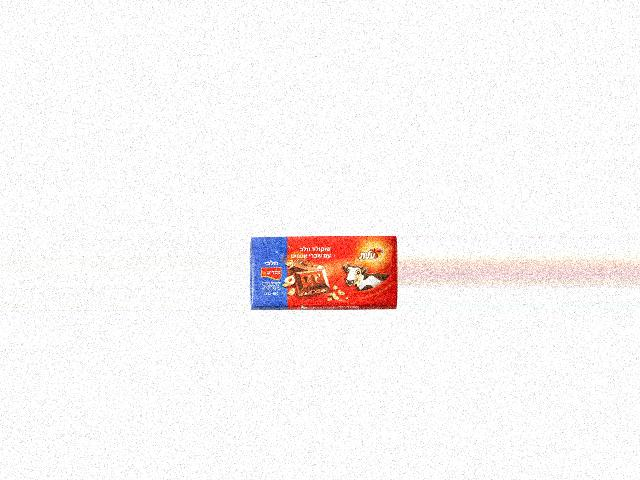chocolate: (250, 236, 398, 309)
